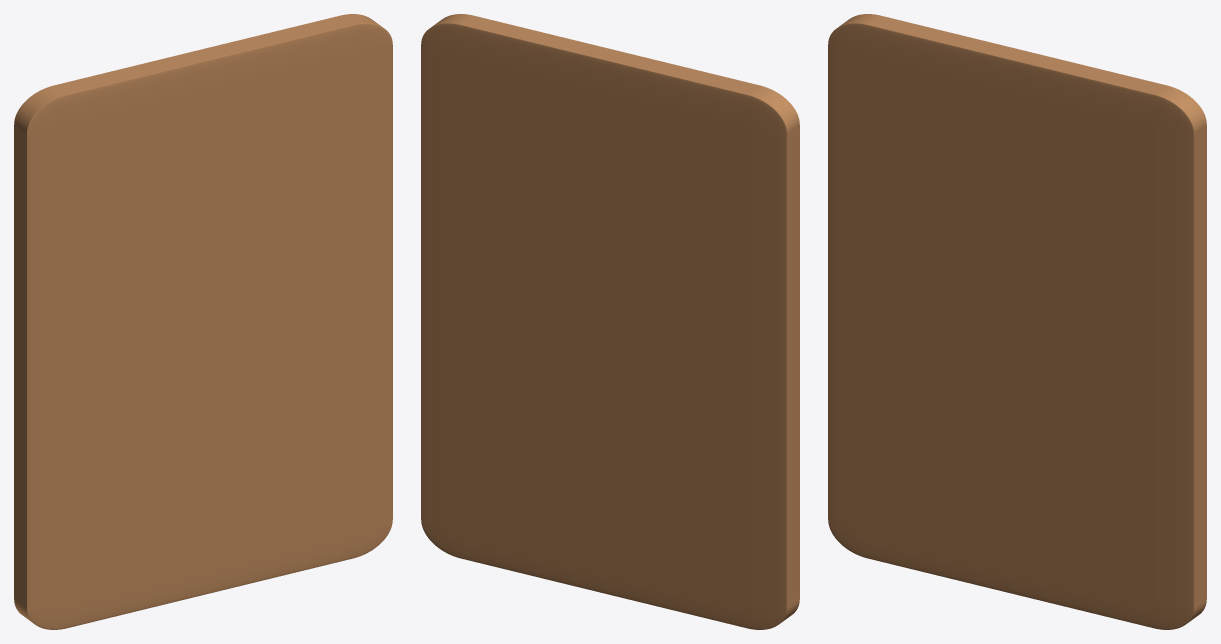
The model's file is windowLeft3x3.fbx.
3 renders of one model, left to right at view 1: azimuth 30°, elevation 25°; view 2: azimuth 150°, elevation 25°; view 3: azimuth 330°, elevation 25°, orthographic.
Parts seen in each view (by area): view 1: WindowLeft3x3; view 2: WindowLeft3x3; view 3: WindowLeft3x3.
Part boxes in pixels (x1=…): WindowLeft3x3: x1=14, y1=14, x2=392, y2=629; WindowLeft3x3: x1=421, y1=14, x2=799, y2=629; WindowLeft3x3: x1=828, y1=14, x2=1206, y2=629.
Size of the model in its own units: 1.43 by 1.99 by 0.0954.
